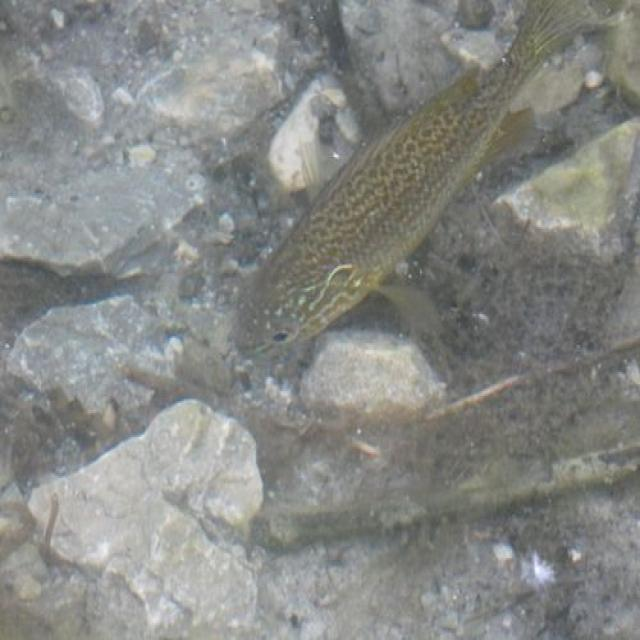Gunes Levregi: (233, 1, 599, 373)
